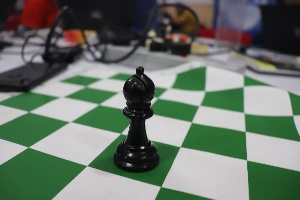black_bishop: (108, 60, 165, 176)
